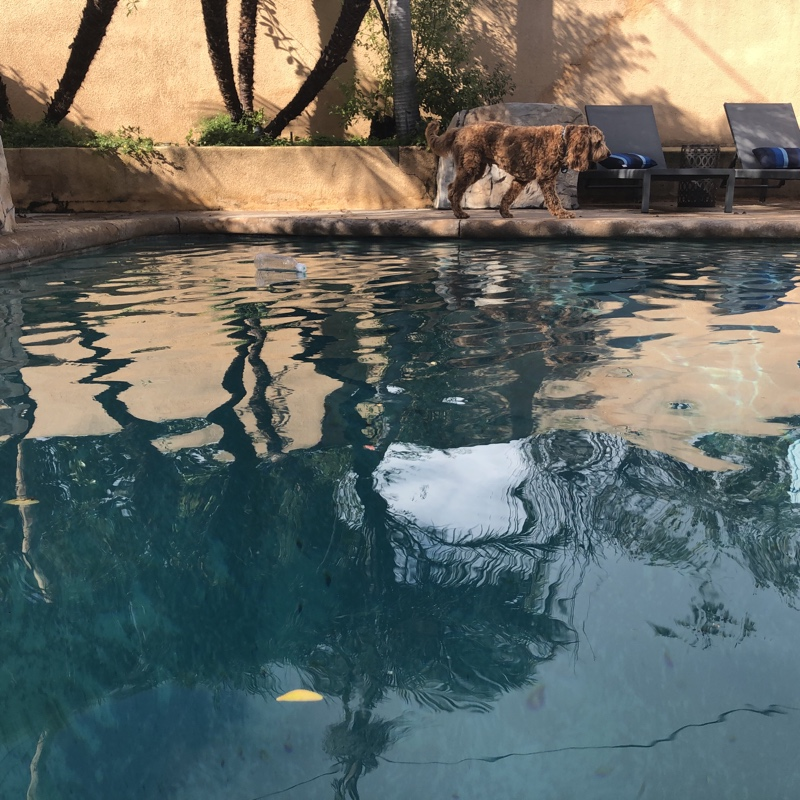Plastic Bottle: (256, 254, 305, 274)
